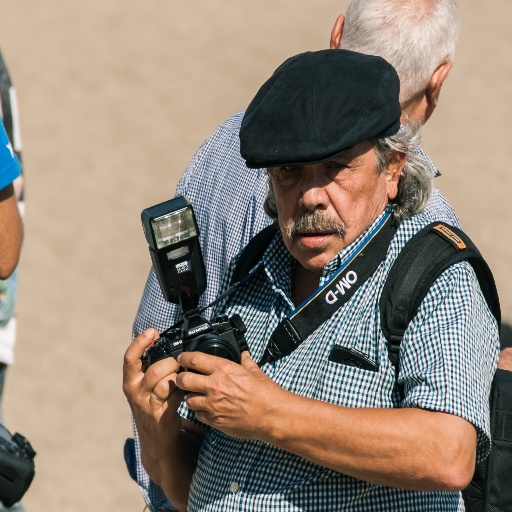hand: (158, 347, 315, 448), (121, 326, 182, 463)
